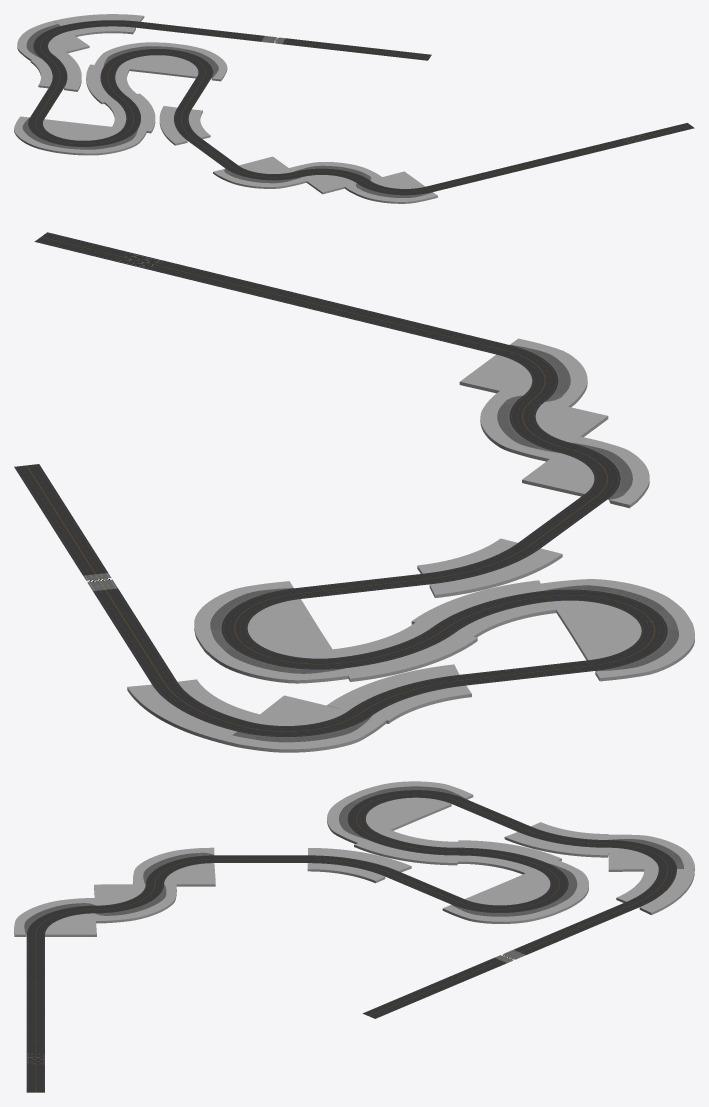
Rendered from level_4.fbx.
The picture shows the model from 3 angles, top to bottom: view 1: azimuth 30°, elevation 25°; view 2: azimuth 150°, elevation 25°; view 3: azimuth 270°, elevation 25°; orthographic projection. The views are drawn at different scales.
Visible parts, largest first — view 1: polySurface398, polySurface392, polySurface380, polySurface382, polySurface374, polySurface393, polySurface388, polySurface399, polySurface395, polySurface379, polySurface385, polySurface387 (+38 smaller); view 2: polySurface399, polySurface392, polySurface398, polySurface393, polySurface374, polySurface388, polySurface380, polySurface382, road_turn_roadsideR2, road_turn_roadsideR1, road_turn_roadsideR3, polySurface386 (+38 smaller); view 3: polySurface393, polySurface374, road_turn_roadsideR4, road_turn_roadsideR, polySurface382, polySurface388, polySurface380, polySurface398, polySurface399, polySurface392, polySurface389, polySurface386 (+38 smaller).
Boxes of the visible parts, <box> form: polySurface398: <box>103,46,173,67</box>; polySurface392: <box>68,128,137,149</box>; polySurface380: <box>224,165,301,183</box>; polySurface382: <box>294,165,371,183</box>; polySurface374: <box>22,117,72,148</box>; polySurface393: <box>168,47,218,78</box>; polySurface388: <box>356,180,432,197</box>; polySurface399: <box>26,24,67,57</box>; polySurface395: <box>156,55,198,78</box>; polySurface379: <box>302,175,356,194</box>; polySurface385: <box>213,169,306,188</box>; polySurface387: <box>344,184,437,203</box>; polySurface399: <box>232,711,371,742</box>; polySurface392: <box>544,585,673,622</box>; polySurface398: <box>215,636,344,673</box>; polySurface393: <box>210,588,300,639</box>; polySurface374: <box>588,619,678,671</box>; polySurface388: <box>496,344,570,401</box>; polySurface380: <box>559,442,632,499</box>; polySurface382: <box>497,395,570,452</box>; road_turn_roadsideR2: <box>429,548,562,597</box>; road_turn_roadsideR1: <box>345,632,477,681</box>; road_turn_roadsideR3: <box>127,684,236,743</box>; polySurface386: <box>522,452,594,496</box>; polySurface393: <box>451,899,553,916</box>; polySurface374: <box>363,786,464,803</box>; road_turn_roadsideR4: <box>504,832,608,857</box>; road_turn_roadsideR: <box>354,839,457,865</box>; polySurface382: <box>95,884,166,915</box>; polySurface388: <box>24,903,95,934</box>; polySurface380: <box>143,852,214,884</box>; polySurface398: <box>536,863,577,906</box>; polySurface399: <box>608,839,683,868</box>; polySurface392: <box>339,796,379,839</box>; polySurface389: <box>45,913,96,936</box>; polySurface386: <box>164,863,215,886</box>.
Size of the model in its own units: 79111 by 275 by 73160.
